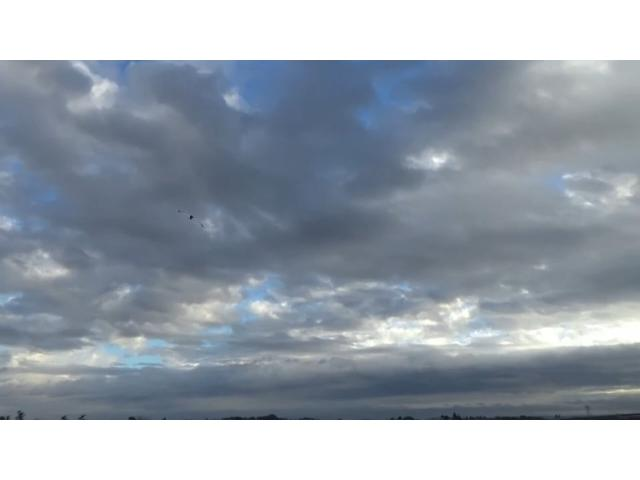Anti-Drone: (176, 208, 204, 228)
